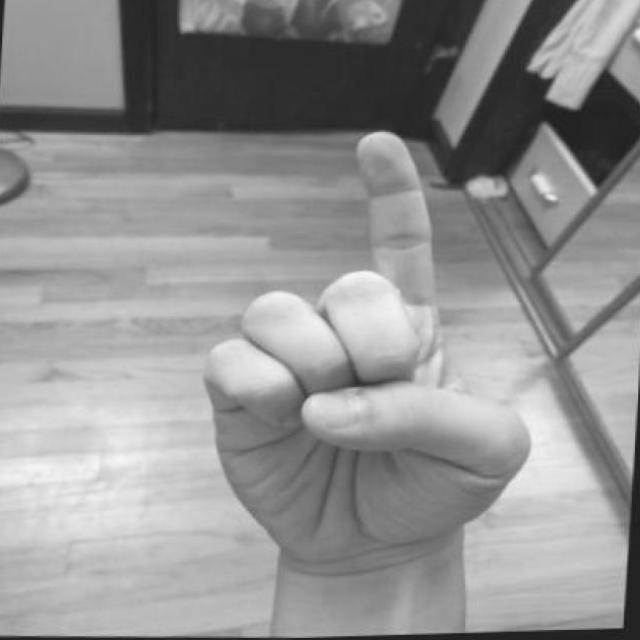D: (188, 121, 545, 573)
